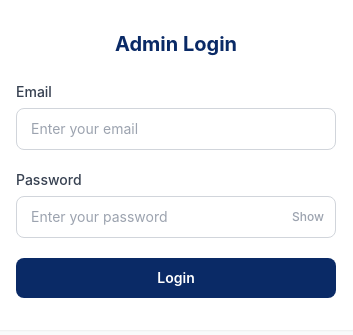
Test: AdminLoginView - post-login redirect validation › does not navigate when login fails
Type "admin@taskora.dev" into the field labelled "Email".
click(176, 129); type("admin@taskora.dev")  # box [16,108,336,150]
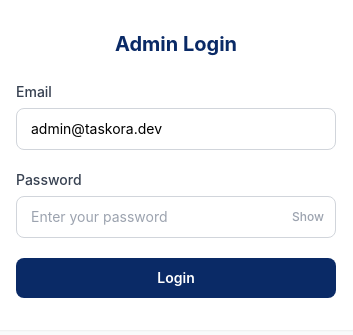
Type "correct-password" into the password field labelled "Password".
click(176, 217); type("correct-password")  # box [16,196,336,238]
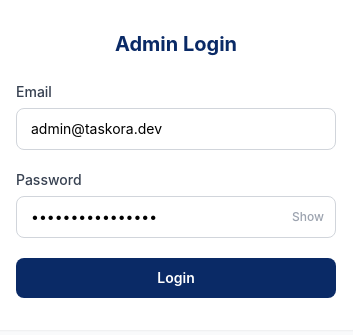
Submit the form, box [16,82,336,298]
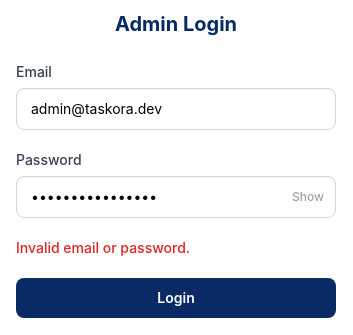
Expected: the text "Invalid email or password." is shown, [16,239,190,256]
